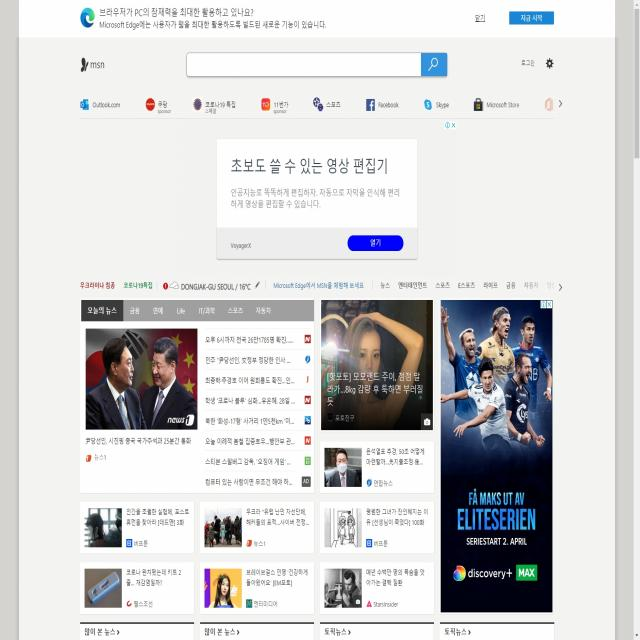menu-bar: (514, 48, 560, 79)
menu-panel: (79, 297, 316, 323)
search: (184, 49, 450, 80)
